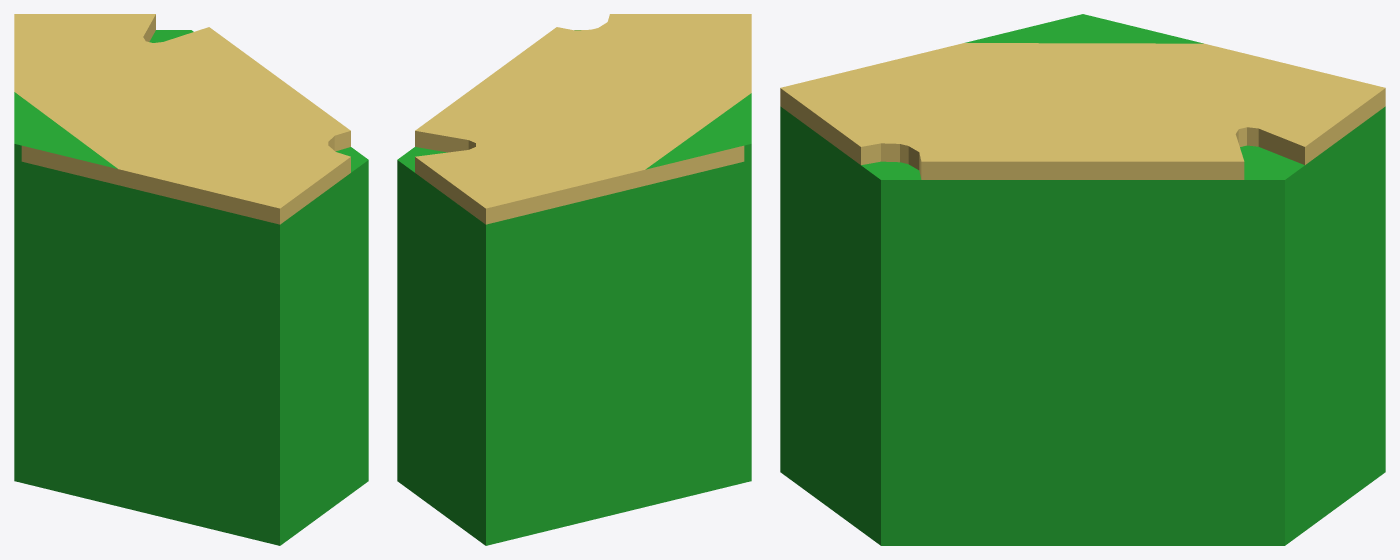
Rendered from module-corner_land_path_full_002.glb.
3 views of the same model, side by side, from view 1: azimuth 30°, elevation 25°; view 2: azimuth 150°, elevation 25°; view 3: azimuth 270°, elevation 25° (orthographic). The views are drawn at different scales.
Visible parts, largest first — view 1: module-corner_land_path_full_002; view 2: module-corner_land_path_full_002; view 3: module-corner_land_path_full_002.
Boxes of the visible parts, box(x1,y1,x2,y2) form: module-corner_land_path_full_002: box(14, 14, 368, 545); module-corner_land_path_full_002: box(397, 14, 751, 545); module-corner_land_path_full_002: box(780, 14, 1385, 545).
Bounding box in the file's own units: 0.433 × 0.525 × 0.75.
